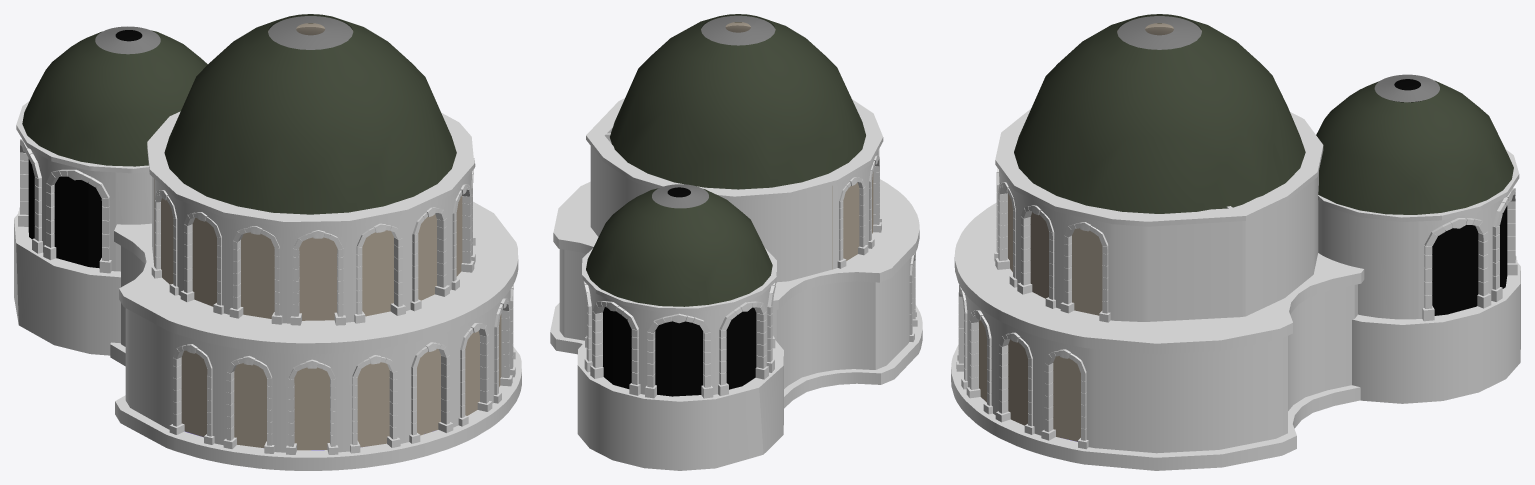
File: OU_AR_IrishPubModel_01_D.fbx
3 renders of one model, left to right at view 1: azimuth 30°, elevation 25°; view 2: azimuth 150°, elevation 25°; view 3: azimuth 270°, elevation 25°, orthographic. The views are drawn at different scales.
Parts seen in each view (by area): view 1: Sphere007, ArcSmallConcert13, SmallConcert_Ceiling, SmallConcert_1stfloor, Sphere009, LightSmallConcert03, LightSmallConcert005, Cylinder003, SmallConcert_Floor, SmallConcert_2ndfloor, Plane088, Bistrolight_02 (+5 smaller); view 2: Sphere007, Sphere009, Cylinder003, SmallConcert_1stfloor, SmallConcert_2ndfloor, Bistrolight_02, SmallConcert_Ceiling, ArcBistro09, Plane088, SmallConcert_Floor, Bistro_01, ArcSmallConcert13 (+4 smaller); view 3: Sphere007, SmallConcert_1stfloor, SmallConcert_2ndfloor, Sphere009, SmallConcert_Ceiling, Cylinder003, ArcSmallConcert13, Bistro_01, SmallConcert_Floor, Plane088, Bistrolight_02, LightSmallConcert005 (+5 smaller).
Boxes of the visible parts, <box> form: Sphere007: <box>164,14,456,214</box>; ArcSmallConcert13: <box>151,158,515,454</box>; SmallConcert_Ceiling: <box>114,201,518,353</box>; SmallConcert_1stfloor: <box>121,246,510,452</box>; Sphere009: <box>22,30,207,166</box>; LightSmallConcert03: <box>154,179,462,320</box>; LightSmallConcert005: <box>181,314,501,450</box>; Cylinder003: <box>14,214,120,355</box>; SmallConcert_Floor: <box>110,342,521,470</box>; SmallConcert_2ndfloor: <box>152,171,472,323</box>; Plane088: <box>147,111,474,226</box>; Bistrolight_02: <box>28,159,101,268</box>; Sphere007: <box>610,14,865,189</box>; Sphere009: <box>586,188,772,306</box>; Cylinder003: <box>577,340,783,470</box>; SmallConcert_1stfloor: <box>559,249,911,388</box>; SmallConcert_2ndfloor: <box>590,140,878,282</box>; Bistrolight_02: <box>603,307,756,396</box>; SmallConcert_Ceiling: <box>553,179,919,310</box>; ArcBistro09: <box>583,280,776,398</box>; Plane088: <box>586,98,883,200</box>; SmallConcert_Floor: <box>550,303,922,408</box>; Bistro_01: <box>588,286,771,394</box>; ArcSmallConcert13: <box>837,148,917,341</box>; Sphere007: <box>1014,14,1305,213</box>; SmallConcert_1stfloor: <box>965,284,1357,453</box>; SmallConcert_2ndfloor: <box>999,170,1318,321</box>; Sphere009: <box>1316,80,1513,214</box>; SmallConcert_Ceiling: <box>954,202,1364,354</box>; Cylinder003: <box>1352,263,1520,403</box>; ArcSmallConcert13: <box>956,167,1110,449</box>; Bistro_01: <box>1318,198,1503,319</box>; SmallConcert_Floor: <box>951,345,1360,470</box>; Plane088: <box>995,109,1323,226</box>; Bistrolight_02: <box>1432,206,1507,315</box>; LightSmallConcert005: <box>979,320,1080,441</box>.
Size of the model in its own units: 2919 by 2669 by 3916.
